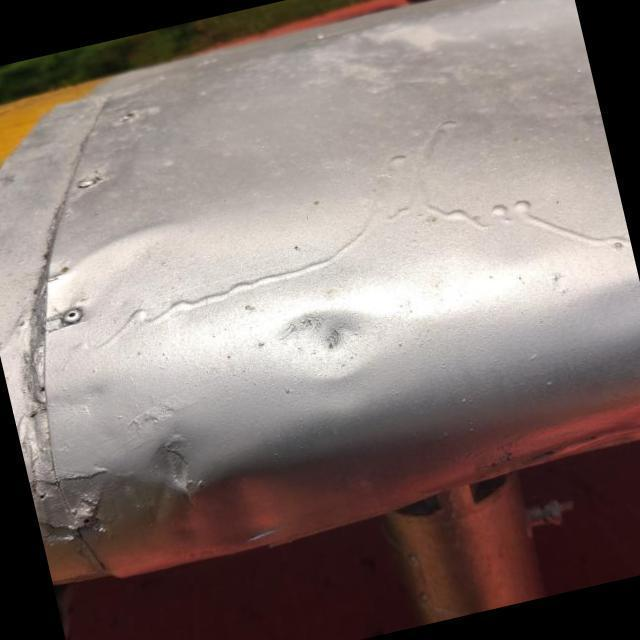dent: (106, 428, 348, 574), (242, 262, 410, 412)
